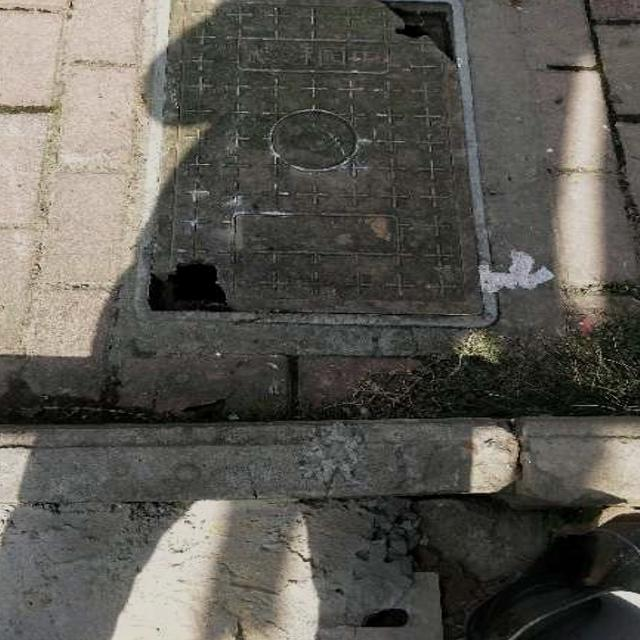broke: (144, 0, 467, 325)
